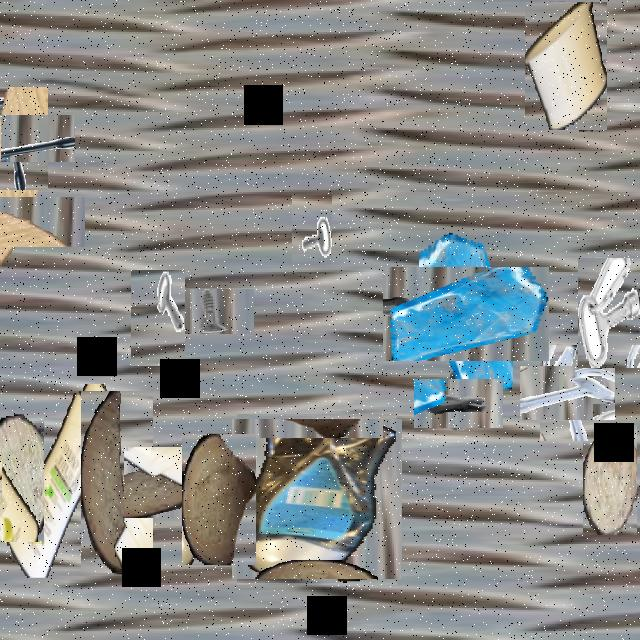glass: (401, 249, 531, 380)
metal: (578, 258, 640, 368), (530, 356, 604, 430), (131, 270, 185, 366), (424, 369, 494, 438), (0, 100, 61, 176), (181, 279, 245, 343), (292, 192, 332, 263)
plastic: (234, 417, 400, 582), (2, 384, 124, 576), (525, 2, 607, 130)
wood: (54, 419, 180, 545), (182, 434, 256, 565), (583, 425, 637, 535), (0, 179, 68, 265), (0, 435, 65, 521)
